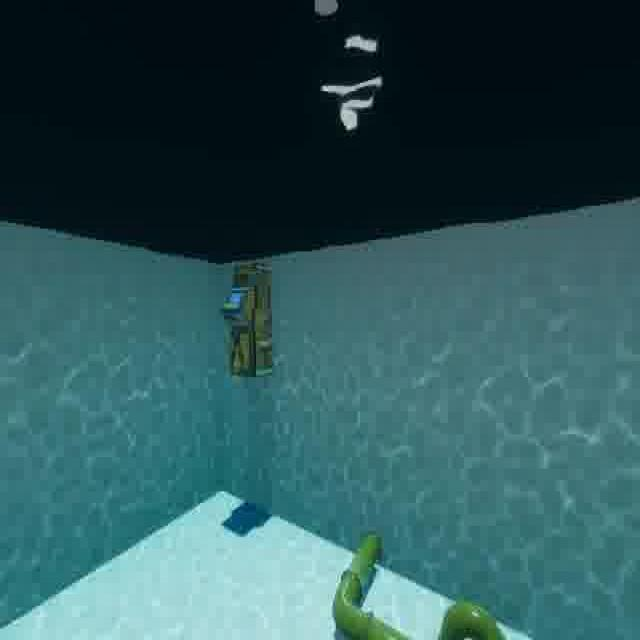Control Panel: (214, 247, 280, 390)
Pipe: (316, 519, 517, 640)
